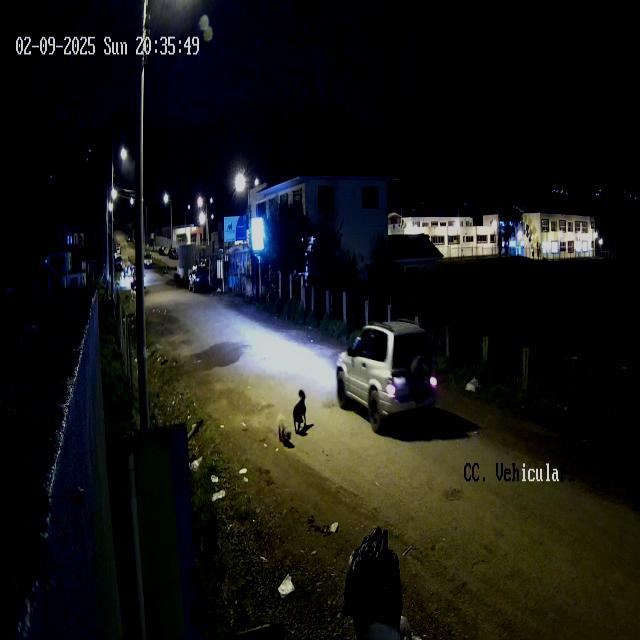SUV: (336, 318, 436, 440)
